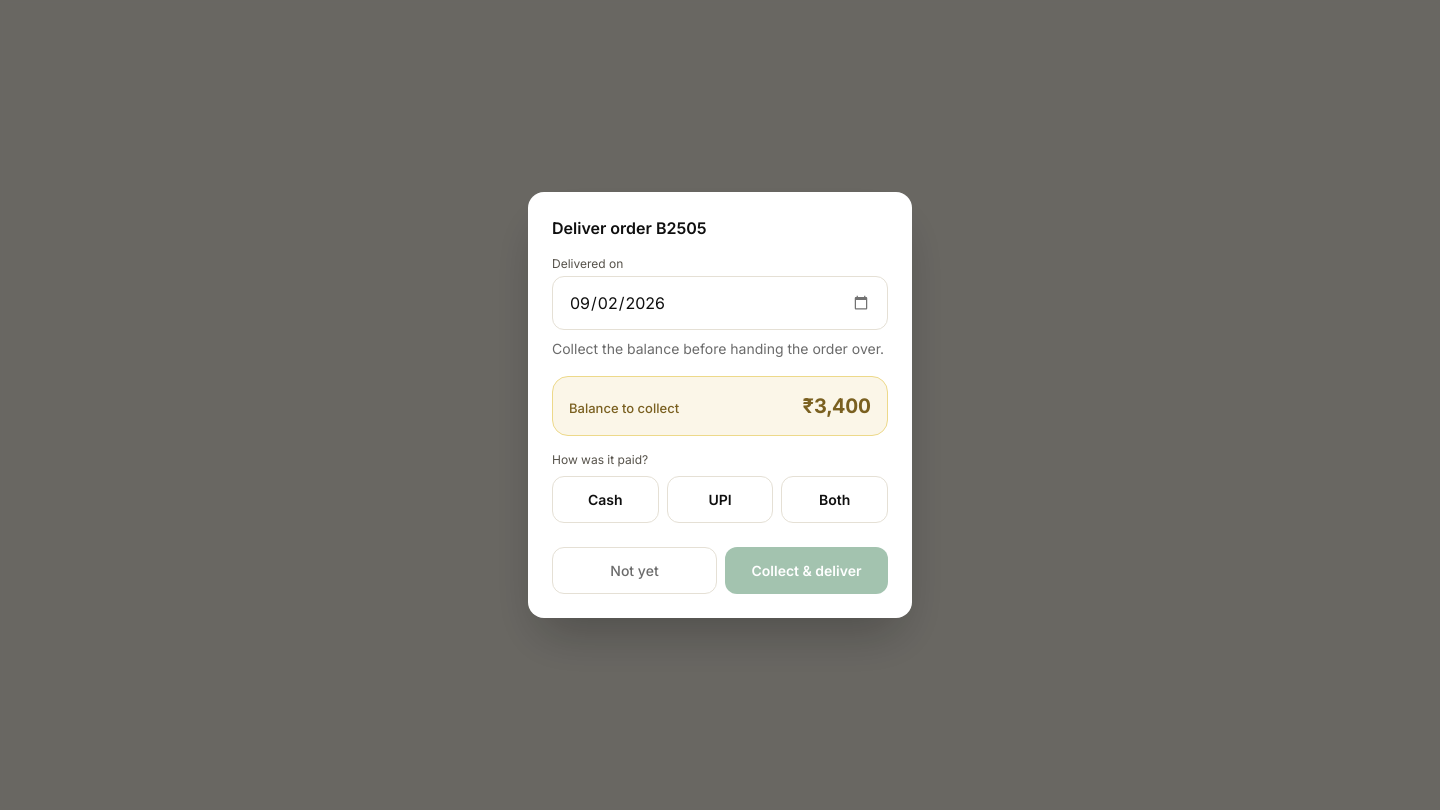
Test case: DeliverOrderDialog › the delivery date › blocks a future date
Type "2099-01-01" into the date field labelled "Delivered on". click: (720, 303)
box: [552,276,888,330]
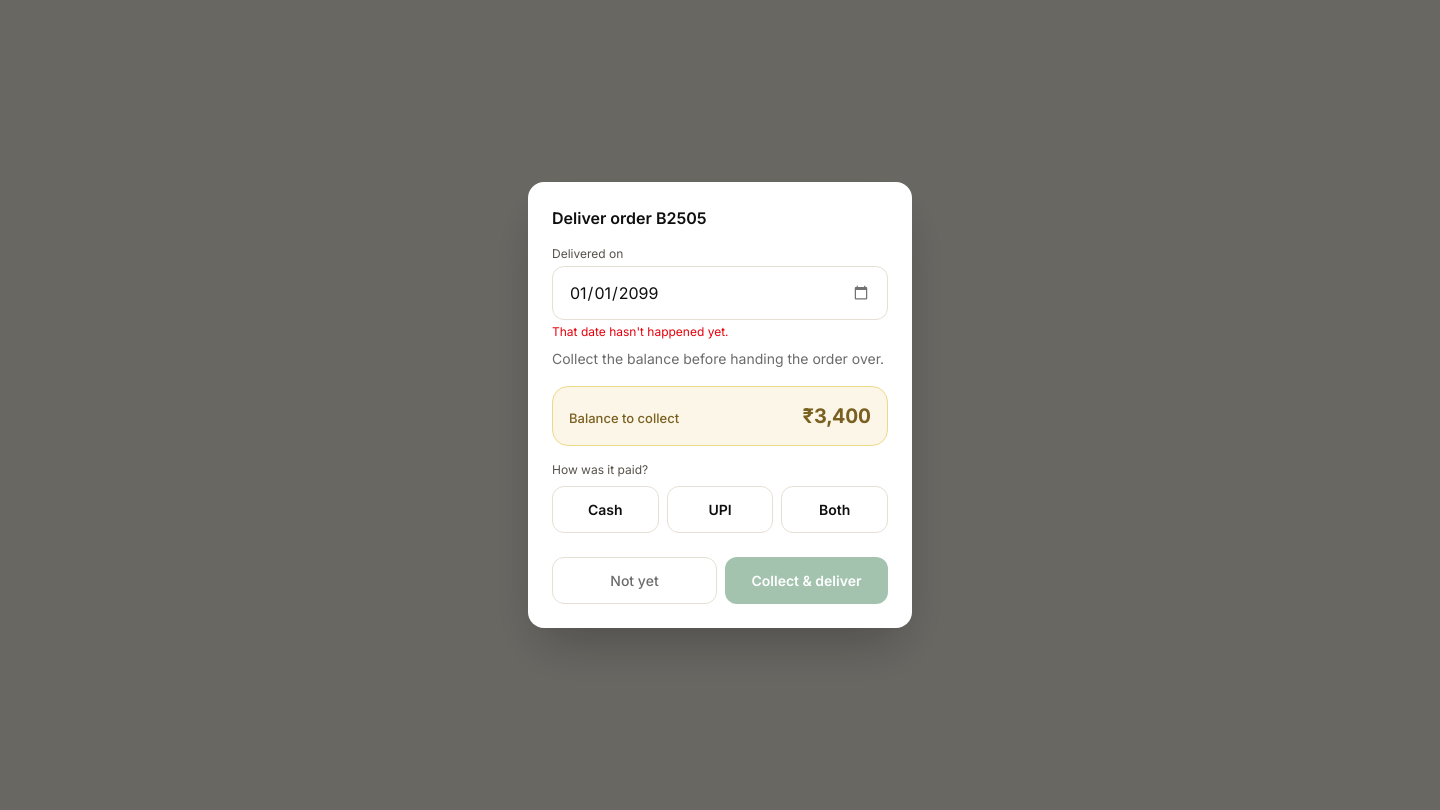
Expected: the button "Collect & deliver" is disabled, [725,557,888,604]
Expected: the text "That date hasn't happened yet." is shown, [552,324,728,339]
